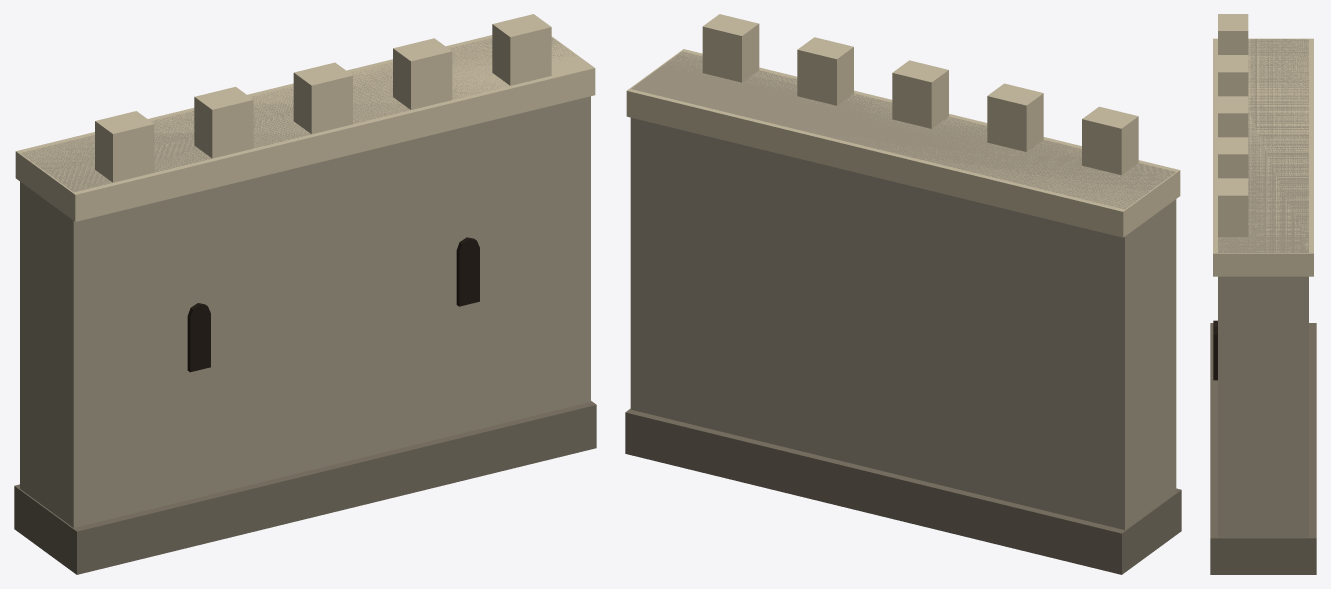
Rendered from siege_wall.glb.
3 views of the same model, side by side, from view 1: azimuth 30°, elevation 25°; view 2: azimuth 150°, elevation 25°; view 3: azimuth 270°, elevation 25° (orthographic). The views are drawn at different scales.
Visible parts, largest first — view 1: siege_wall; view 2: siege_wall; view 3: siege_wall.
Boxes of the visible parts, <box> form: siege_wall: <box>14,14,596,574</box>; siege_wall: <box>625,14,1181,574</box>; siege_wall: <box>1210,14,1316,574</box>.
Bounding box in the file's own units: 10.05 × 7.9 × 2.1.
